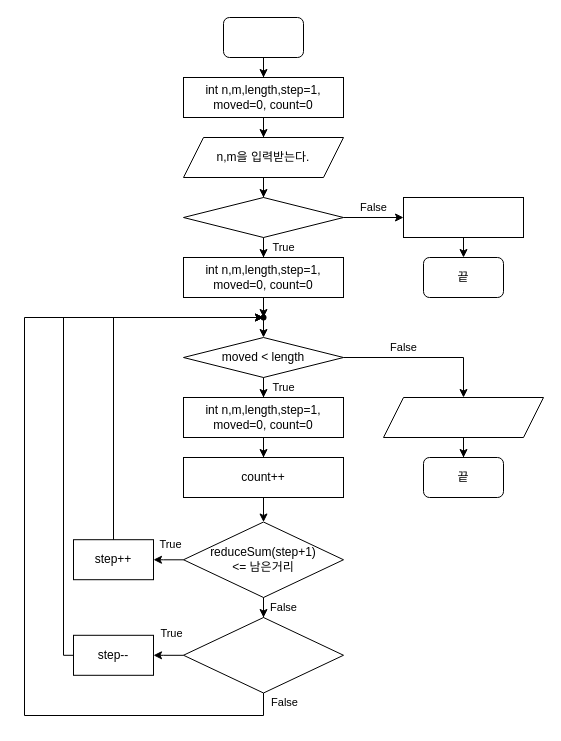
Image size: 561x741. Some labels were removed from this diagram. Here are the shapes that lost their labels. From the top down, the centre of each, then its label:
(x=263, y=37): 시작
(x=263, y=217): 정수를 입력?
(x=463, y=217): return 1
(x=463, y=417): count를 출력한다.
(x=263, y=654): reduceSum(step) > 남은거리
